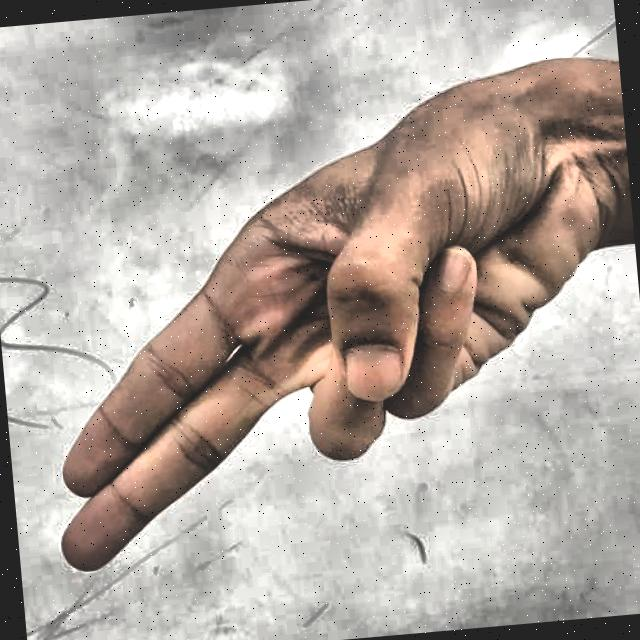Ha: (11, 66, 616, 629)
